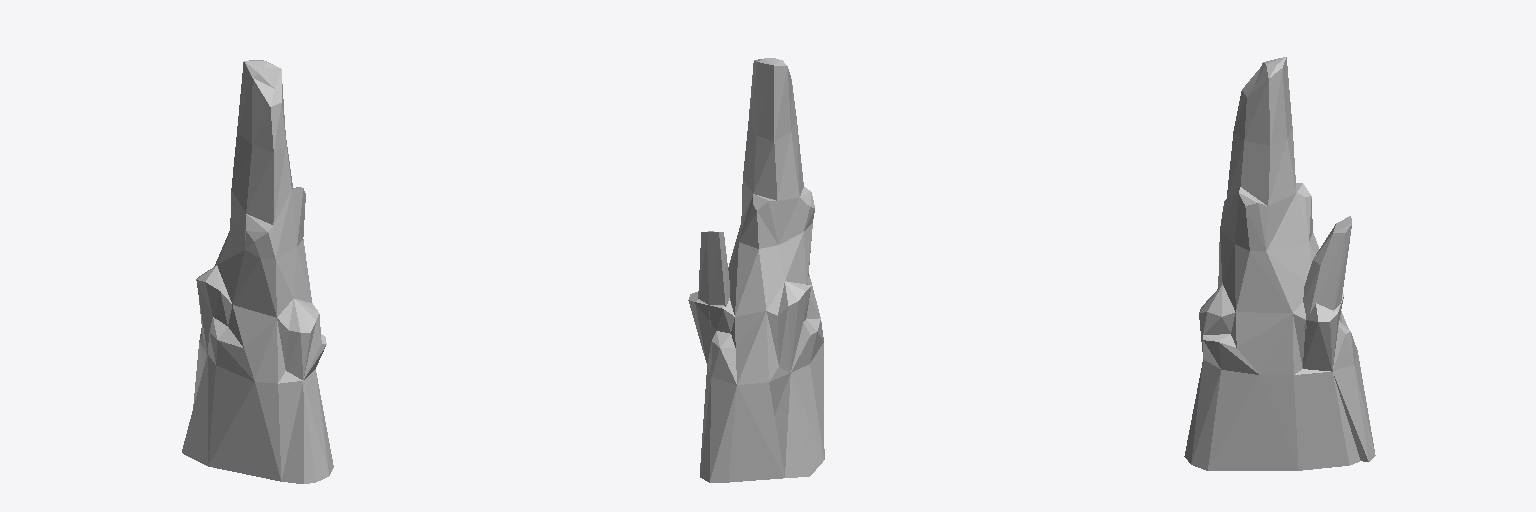
File: durotarrock04.obj
The picture shows the model from 3 angles: view 1: azimuth 30°, elevation 25°; view 2: azimuth 150°, elevation 25°; view 3: azimuth 270°, elevation 25°; orthographic projection.
Visible parts, largest first — view 1: DurotarRock04; view 2: DurotarRock04; view 3: DurotarRock04.
Part boxes in pixels (bbox=[...]): DurotarRock04: bbox=[182, 60, 333, 483]; DurotarRock04: bbox=[688, 58, 824, 482]; DurotarRock04: bbox=[1184, 57, 1375, 470].
Bounding box in the file's own units: 14.92 × 47.76 × 21.21.